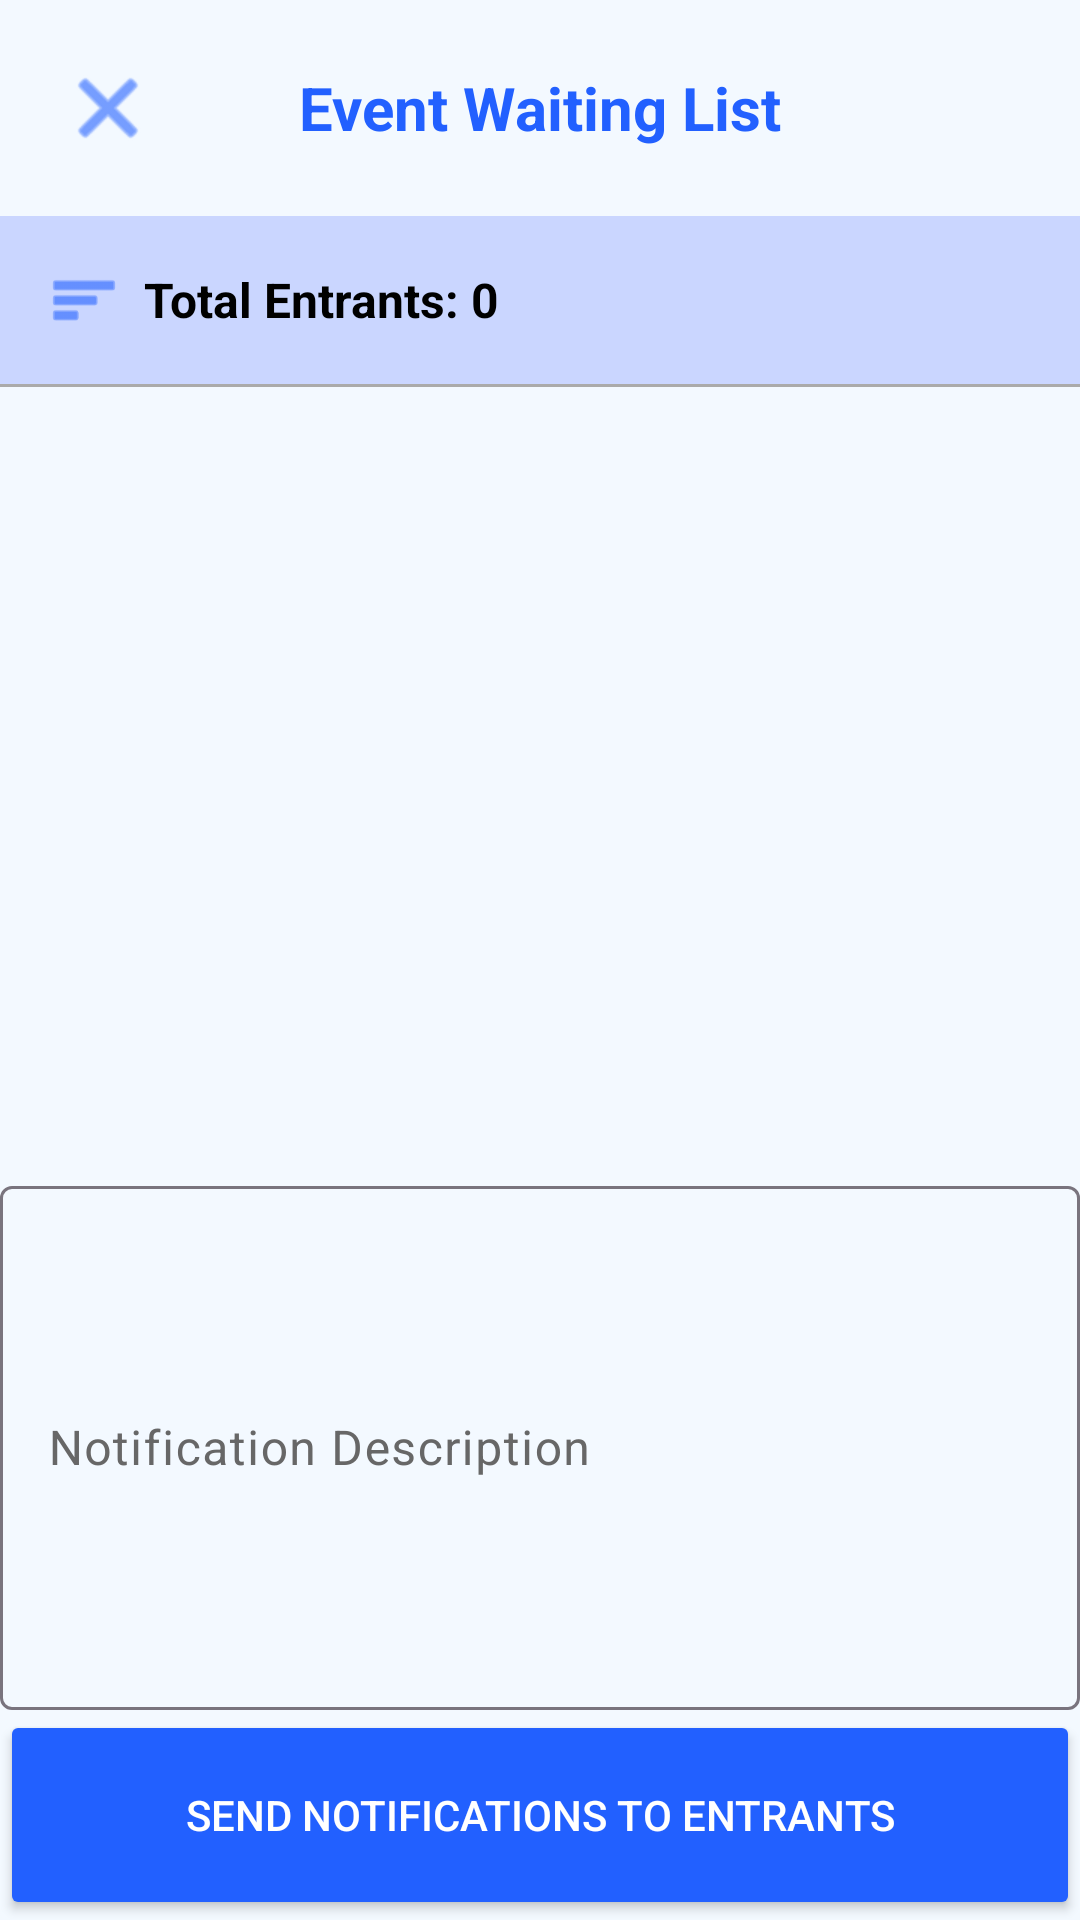

Screen size 1080 × 1920. Icon name, then its center in pixels as (x=x, y=y):
sort by size: (x=84, y=300)
